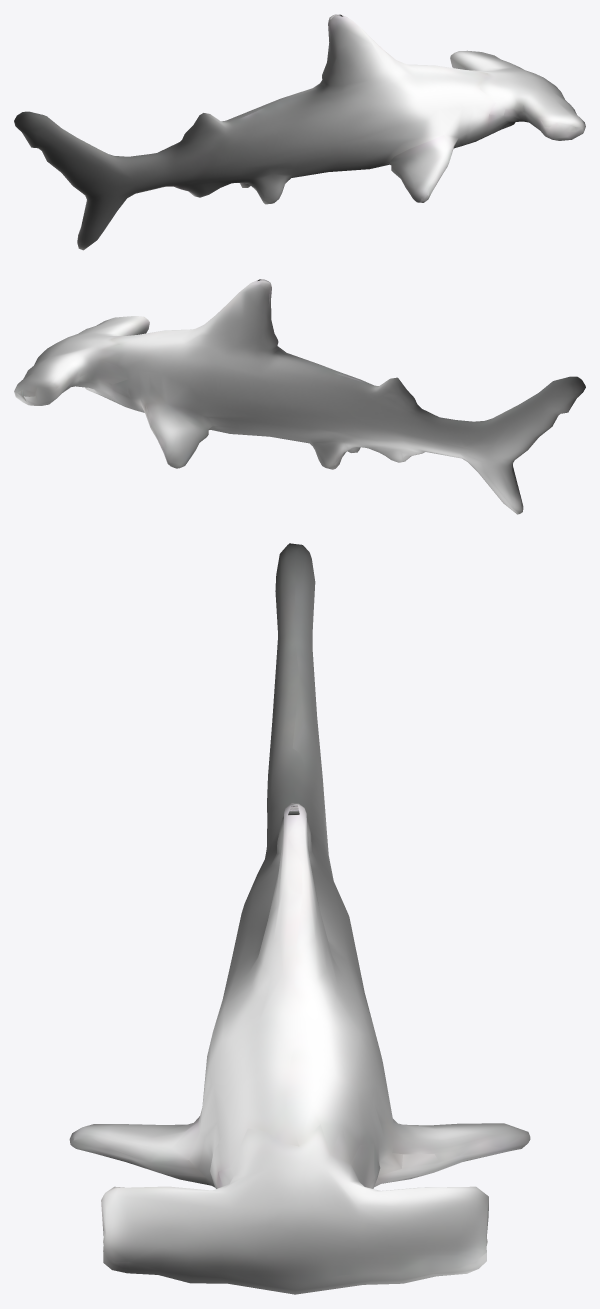
The picture shows the model from 3 angles, top to bottom: view 1: azimuth 30°, elevation 25°; view 2: azimuth 150°, elevation 25°; view 3: azimuth 270°, elevation 25°; orthographic projection. The views are drawn at different scales.
Visible parts, largest first — view 1: 19412_Hammerhead_Shark_v2; view 2: 19412_Hammerhead_Shark_v2; view 3: 19412_Hammerhead_Shark_v2.
Part boxes in pixels (x1,y1,x2,y2): 19412_Hammerhead_Shark_v2: (14, 14, 585, 250); 19412_Hammerhead_Shark_v2: (14, 279, 585, 514); 19412_Hammerhead_Shark_v2: (69, 543, 530, 1294).
Bounding box in the file's own units: 14.27 × 4.35 × 5.25.
1 material, 1 textured.
